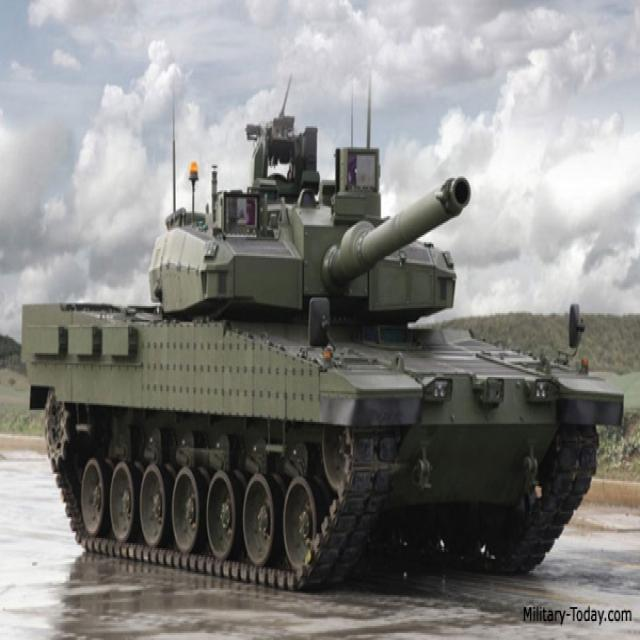Tank: (51, 101, 610, 586)
